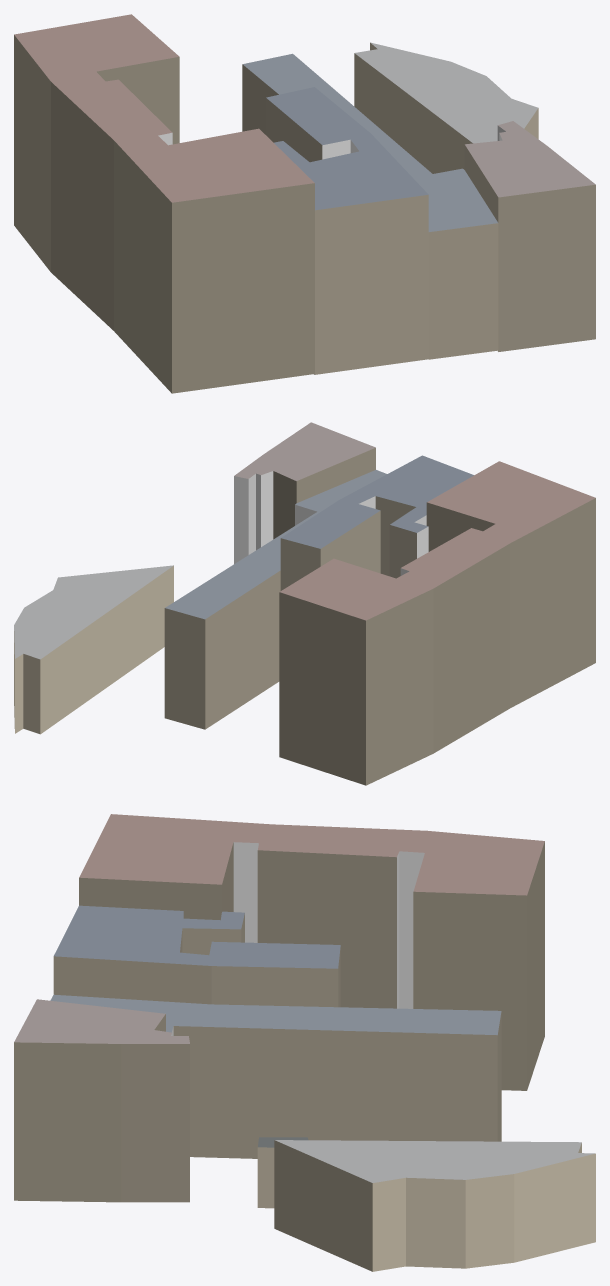
3 views of the same model, one above another, from view 1: azimuth 30°, elevation 25°; view 2: azimuth 150°, elevation 25°; view 3: azimuth 270°, elevation 25° (orthographic). The views are drawn at different scales.
Visible parts, largest first — view 1: tuile; view 2: tuile; view 3: tuile.
Boxes of the visible parts, x1,y1,x2,y2 form: tuile: (14, 14, 595, 393); tuile: (14, 422, 595, 785); tuile: (14, 814, 595, 1271).
Size of the model in its own units: 45.8 by 18.22 by 45.6.
